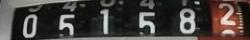digits: (94, 0, 126, 38), (175, 0, 207, 36), (55, 3, 86, 38), (215, 0, 244, 37), (134, 0, 161, 37), (17, 7, 48, 39)
